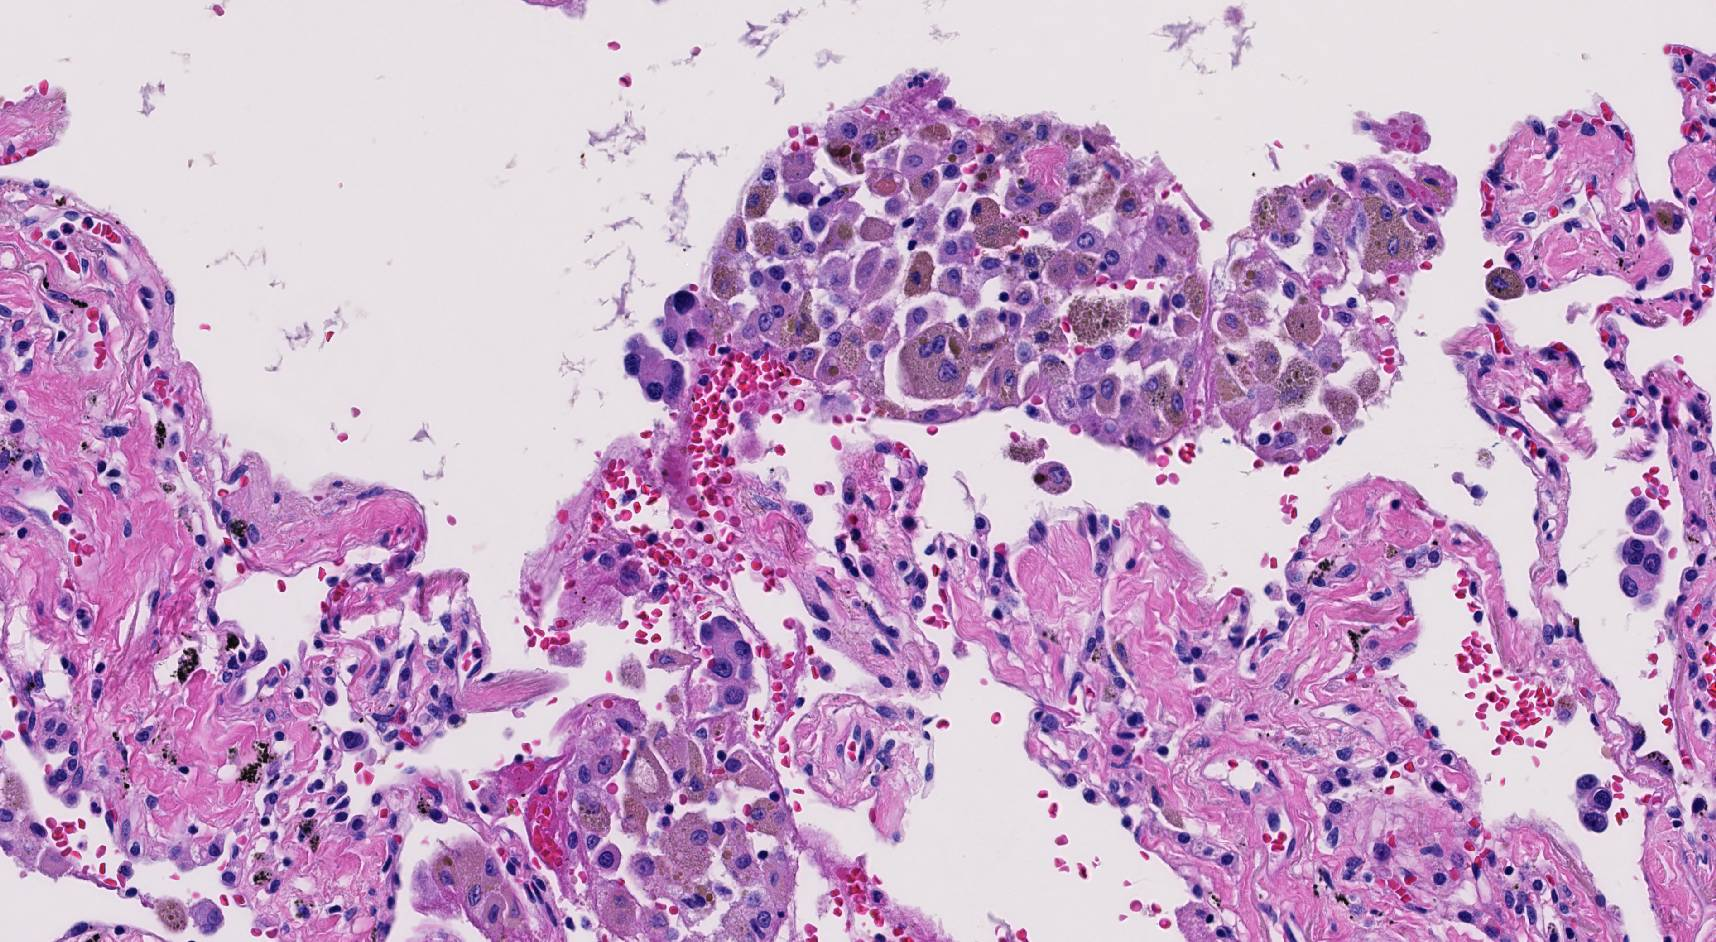stas: (699, 615, 753, 711), (1619, 496, 1667, 600), (625, 337, 683, 401), (656, 287, 708, 352), (1575, 776, 1611, 831)
